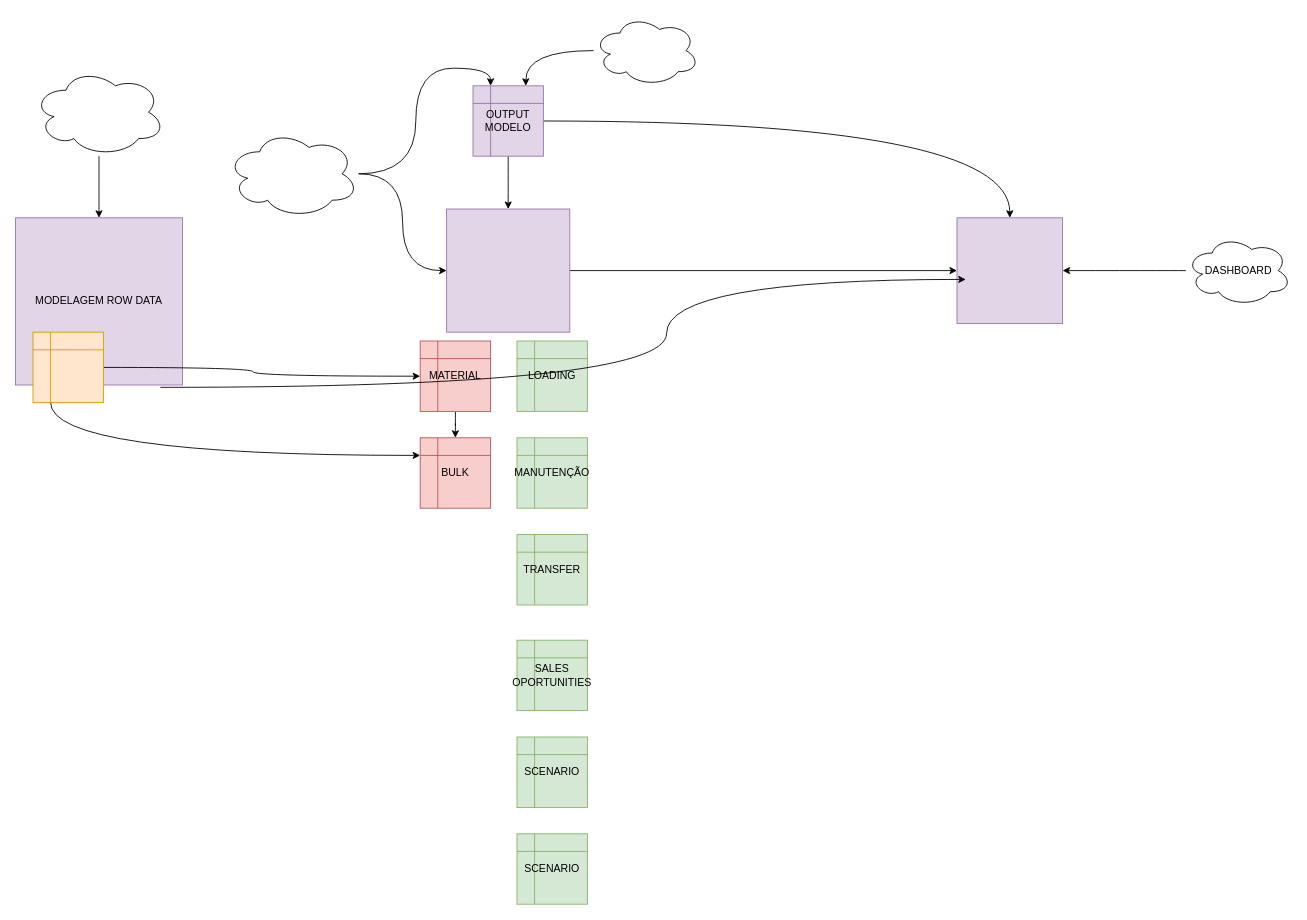
The diagram is 1307 pixels wide and 920 high, and some of its shapes have lost their labels. The shapes that lost their labels are listed below. From the top down, each one's box as (x1, y1, x2, y2) in pixels, then its label:
(593, 15, 699, 86): MODELO OTIMIZAÇÃO
(32, 67, 165, 156): ORIGEM DE DADOS
(226, 129, 359, 218): SOFTWARE
(446, 208, 570, 332): MODELAGEM ITERAÇÃO SISTEMA (IMPUTES)
(956, 217, 1063, 323): MODELAGEM FLAT TABLES DATA VISUALIZATION
(32, 331, 103, 403): BULK COMPOSITE
